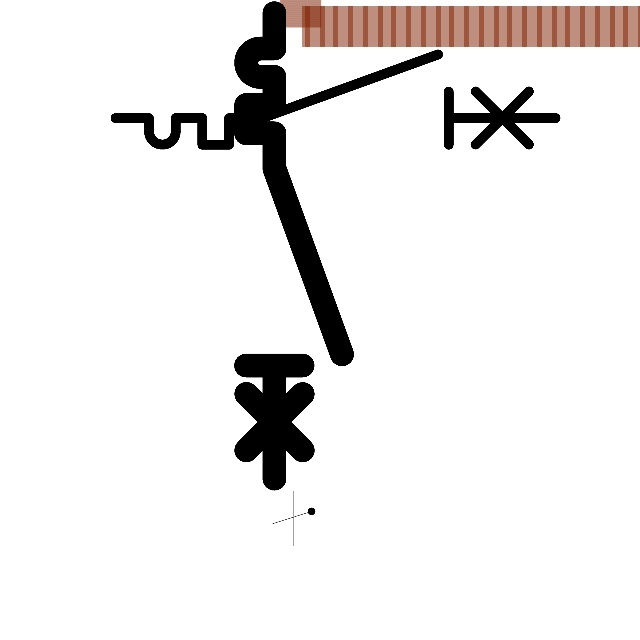interruptor_termomagnetico: (234, 1, 354, 490), (104, 43, 567, 156)
